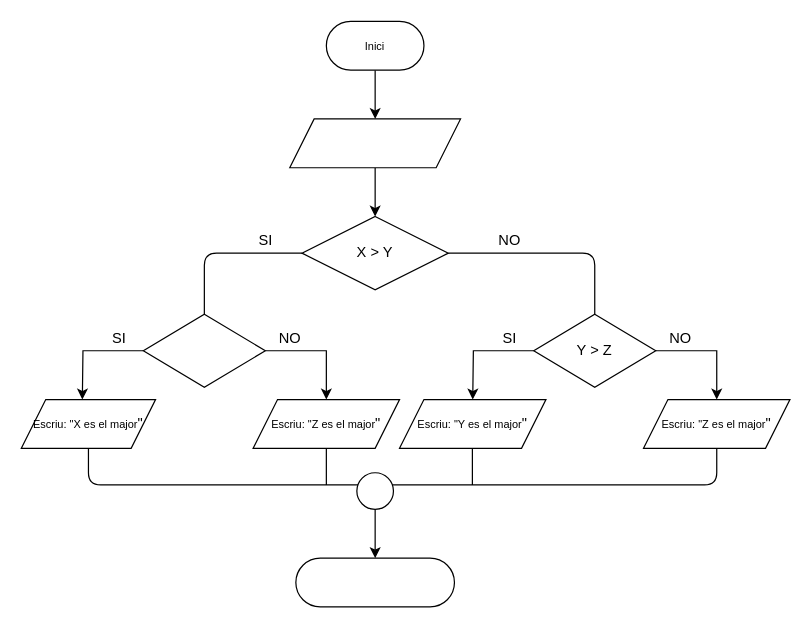
The diagram is 811 pixels wide and 628 high, and some of its shapes have lost their labels. Each missing label, with the box of its shape:
Fi: (295, 557, 454, 607)
Llig X. Llig Y. Llig Z: (289, 118, 461, 168)
X > Z: (142, 313, 265, 387)
